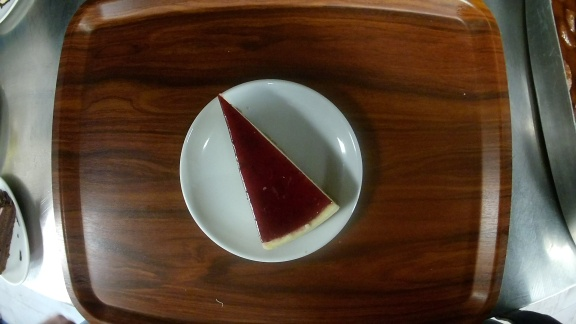frambuazlipasta: (180, 78, 364, 262)
